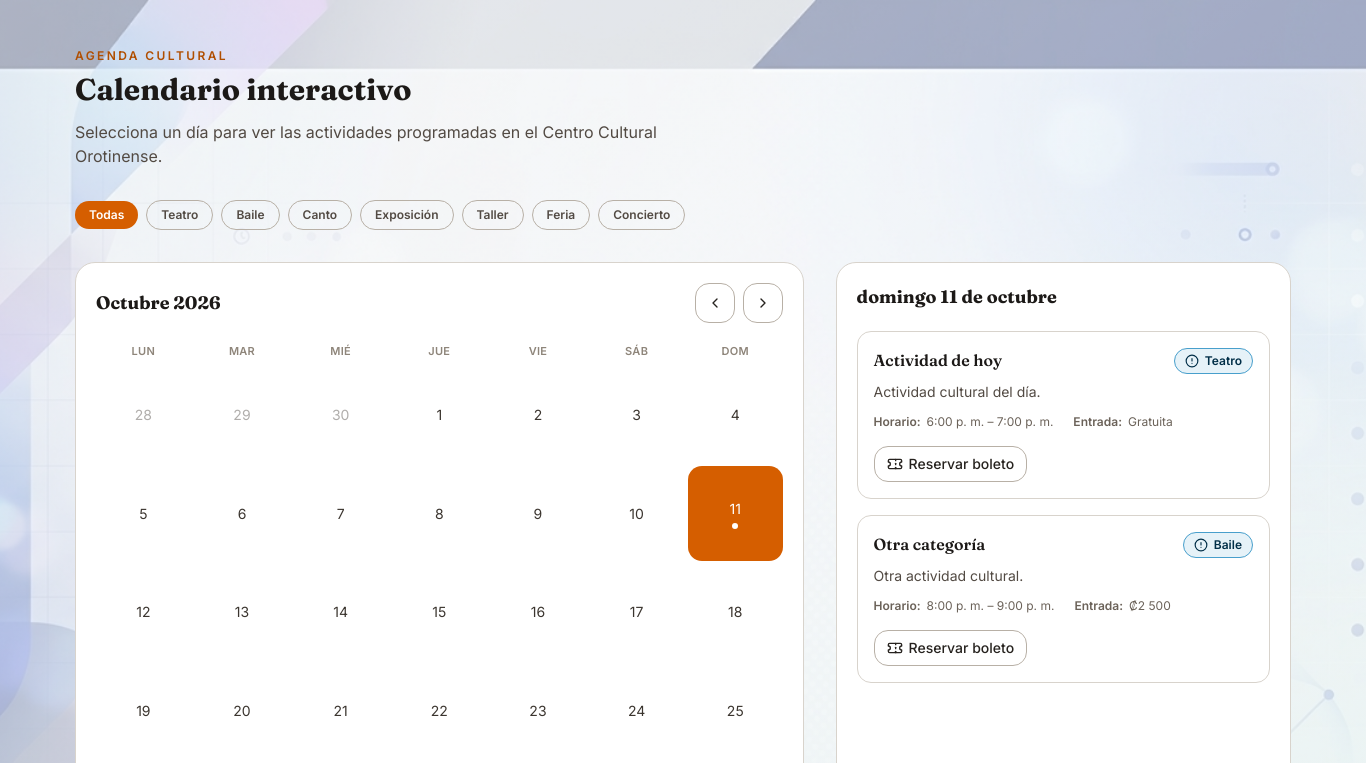
Test: Calendario › filters the selected day events by category and restores all categories
Expected: the heading "Actividad de hoy" is shown, [874,348,1002,372]
Expected: the heading "Otra categoría" is shown, [874,532,985,556]
Click the button "Teatro" at (180, 215), box [146,200,213,230]
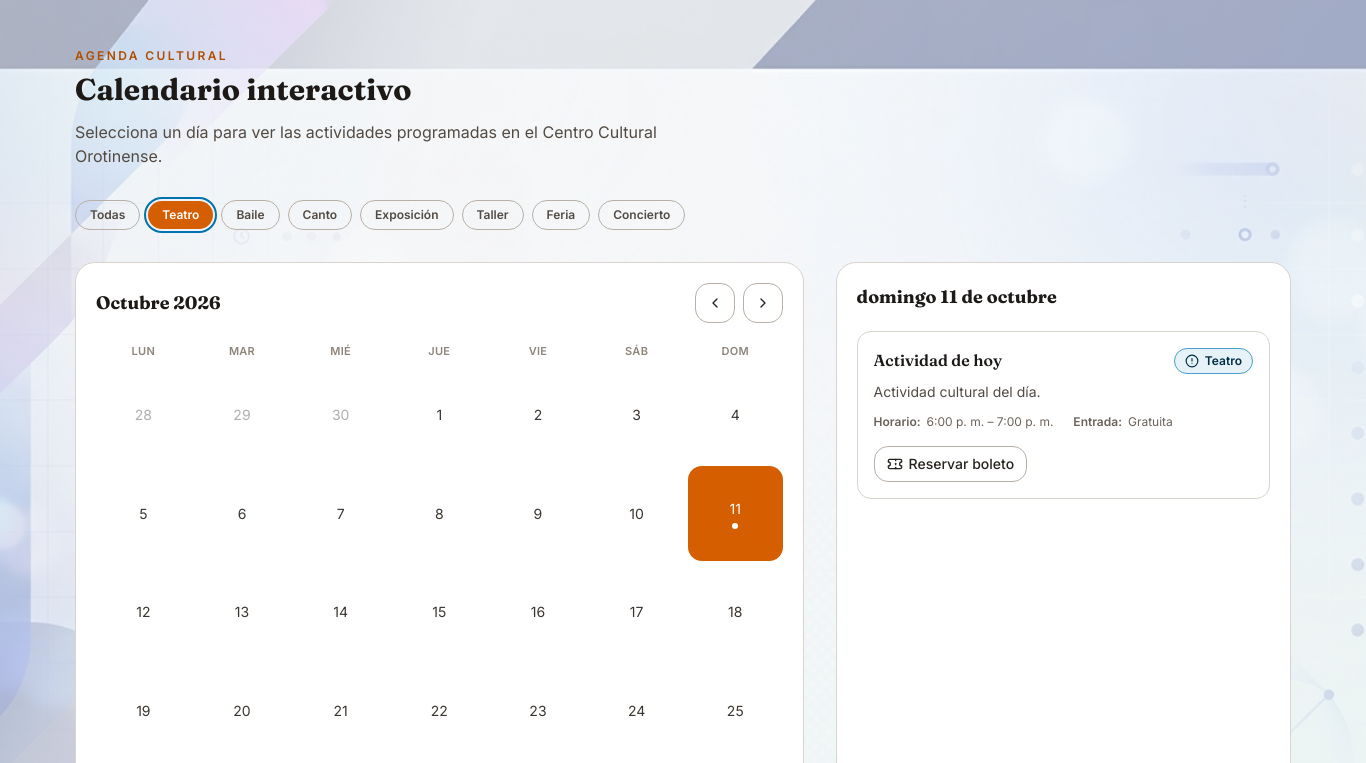
Expected: the heading "Actividad de hoy" is shown, [874,348,1002,372]
Now the heading "Otra categoría" is gone
Click the button "Todas" at (108, 215), box [75,200,140,230]
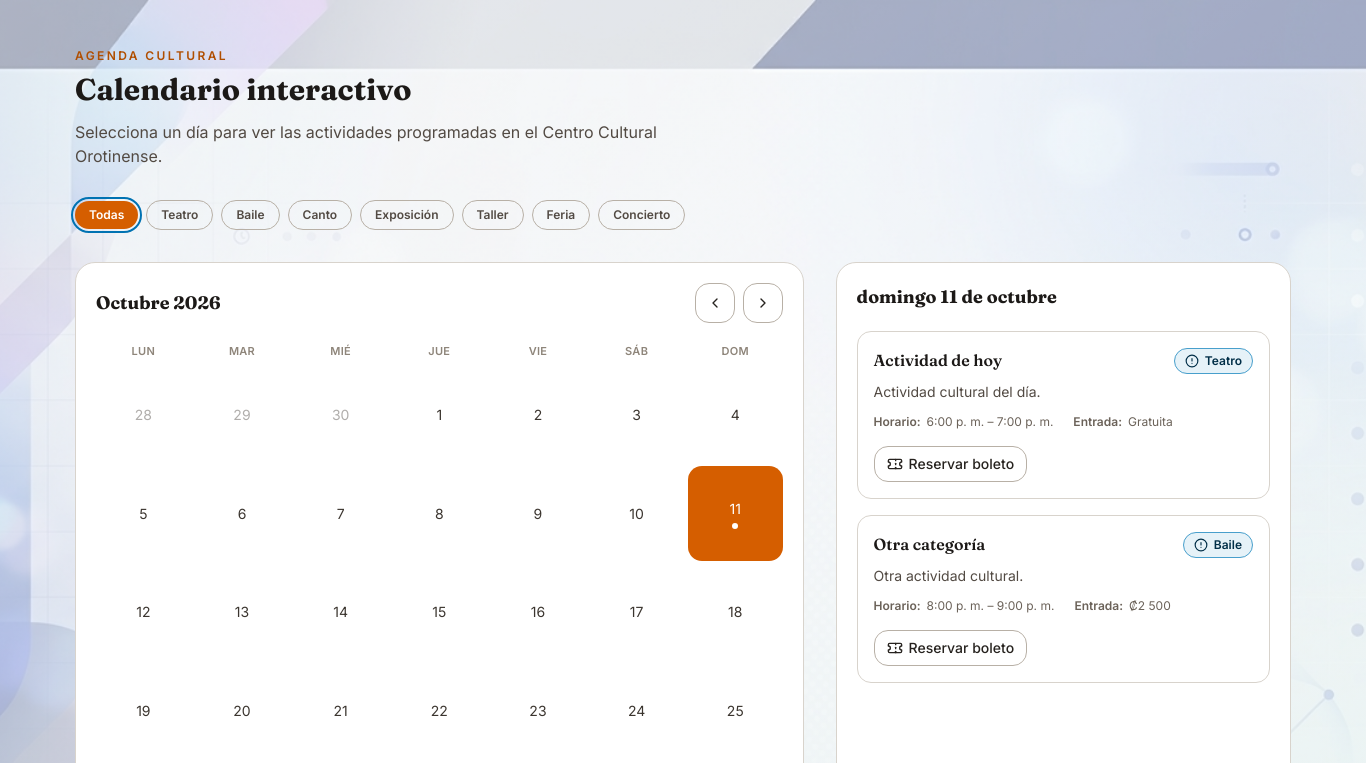
Now the heading "Otra categoría" is shown, box [874,532,985,556]
